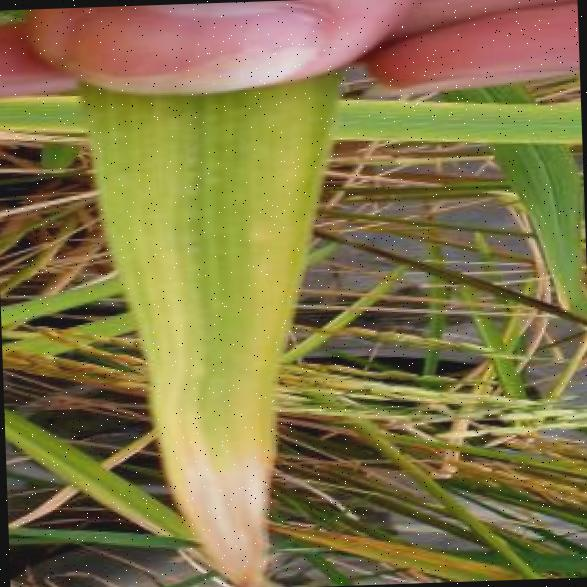Bacteria_Leaf_Blight: (130, 86, 296, 466)
